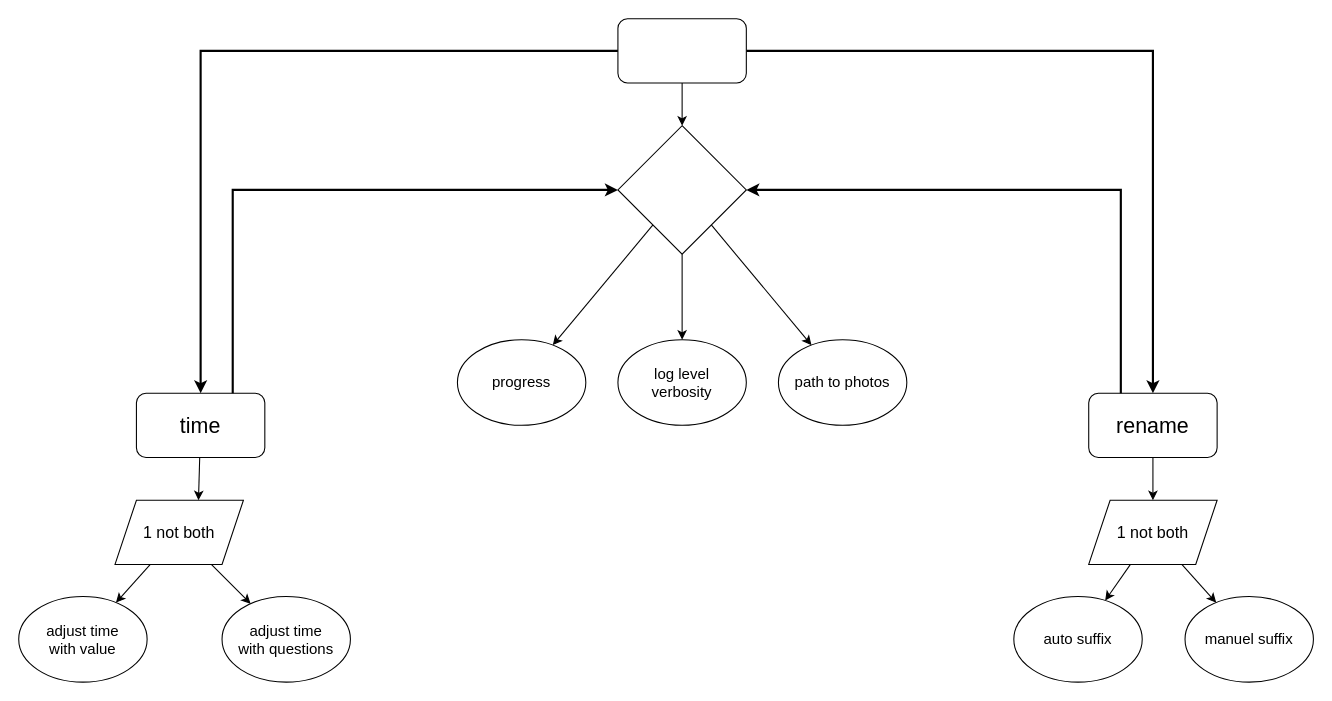
This 1332x701 diagram has some shape labels left out. Here are the shapes that lost their labels. From the top down, the box of each, then its label:
(617, 18, 746, 83): Photos_cli
(617, 125, 746, 254): General parser
